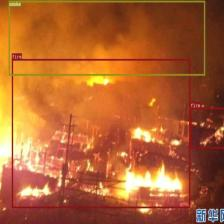fire: (11, 58, 190, 208), (190, 107, 224, 148)
smoke: (8, 1, 205, 76)
